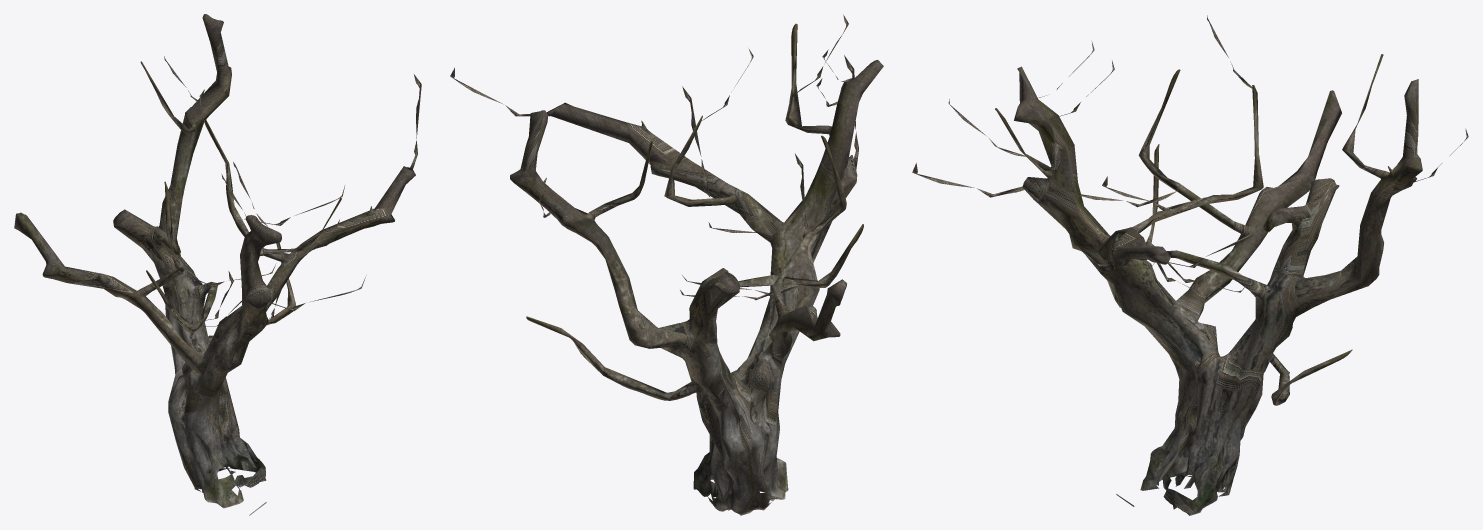
File: island_tree_01_L0_madera.glb
3 views of the same model, side by side, from view 1: azimuth 30°, elevation 25°; view 2: azimuth 150°, elevation 25°; view 3: azimuth 270°, elevation 25° (orthographic). The views are drawn at different scales.
Parts seen in each view (by area): view 1: island_tree_01_LOD0; view 2: island_tree_01_LOD0; view 3: island_tree_01_LOD0.
Part boxes in pixels (x1,y1,x2,y2): island_tree_01_LOD0: [14, 14, 421, 515]; island_tree_01_LOD0: [450, 14, 883, 515]; island_tree_01_LOD0: [912, 15, 1468, 515].
Bounding box in the file's own units: 3.58 × 3.67 × 3.88.
Materials: 2 (2 with a texture image).
